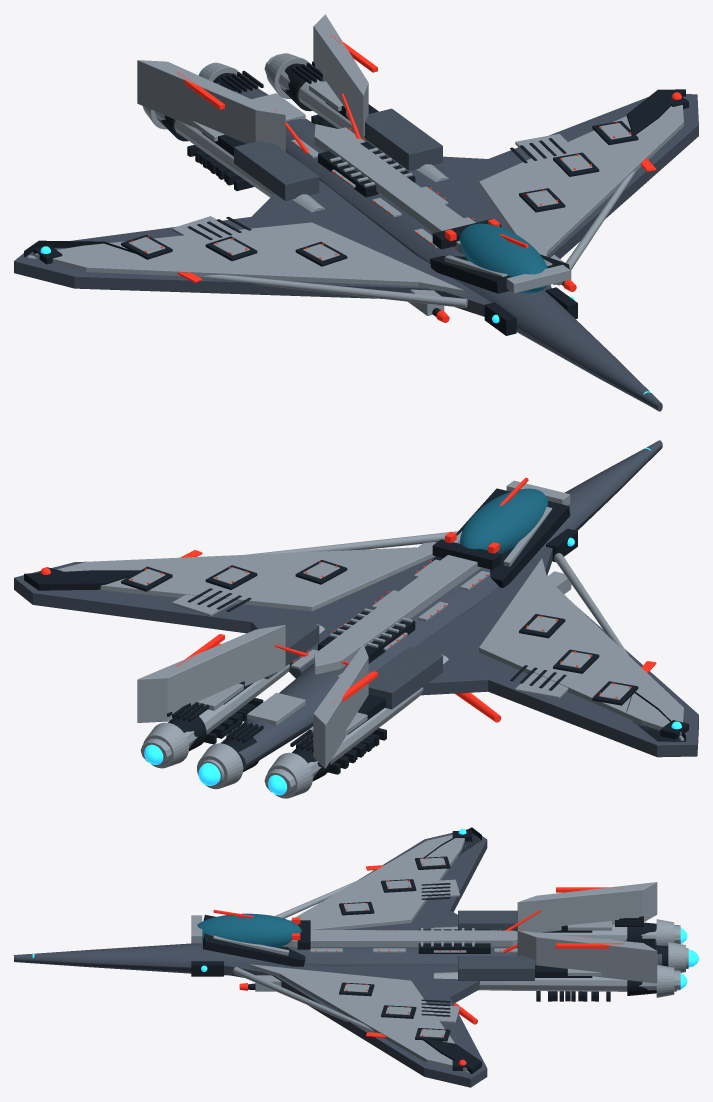
The model's file is enemy_fighter.glb.
3 renders of one model, top to bottom at view 1: azimuth 30°, elevation 25°; view 2: azimuth 150°, elevation 25°; view 3: azimuth 270°, elevation 25°, orthographic. The views are drawn at different scales.
Visible parts, largest first — view 1: enemy_fighter; view 2: enemy_fighter; view 3: enemy_fighter.
Part boxes in pixels (x1,y1,x2,y2): enemy_fighter: (14,14,698,411); enemy_fighter: (14,440,698,798); enemy_fighter: (14,827,698,1087).
Size of the model in its own units: 12.69 by 1.75 by 14.69.
6 materials, 3 textured.
